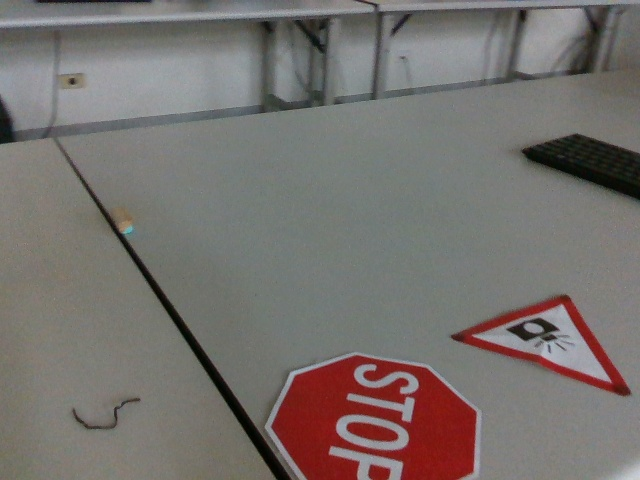camera: (448, 294, 632, 401)
stop: (261, 349, 483, 480)
